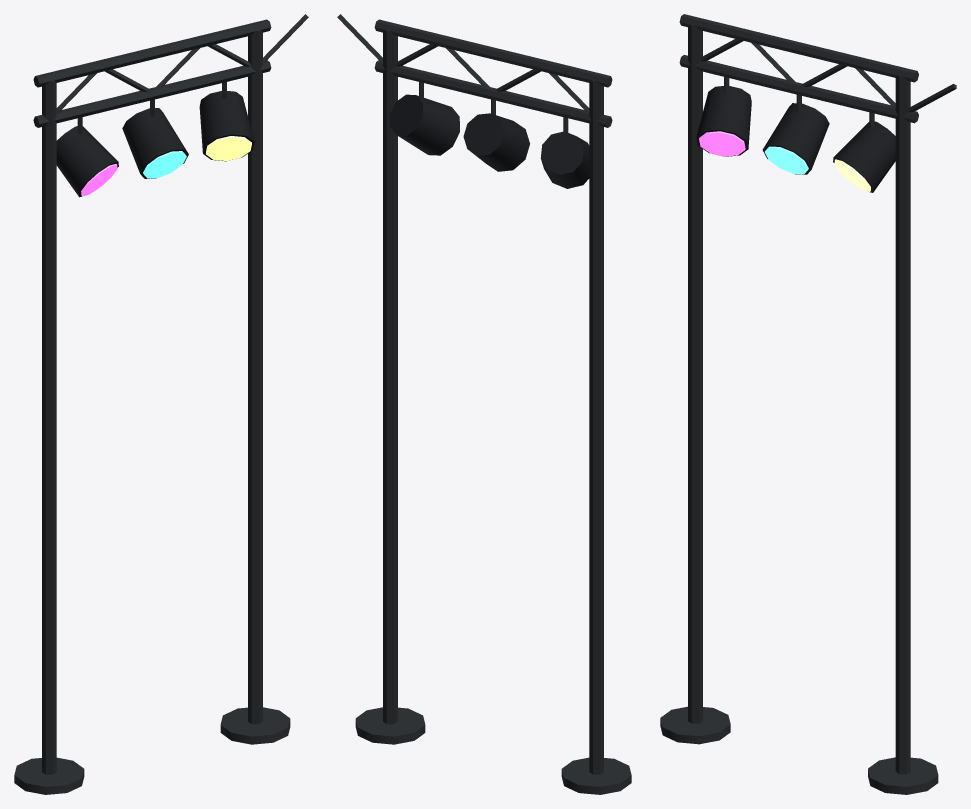
The model's file is stage_lights.glb.
3 renders of one model, left to right at view 1: azimuth 30°, elevation 25°; view 2: azimuth 150°, elevation 25°; view 3: azimuth 330°, elevation 25°, orthographic.
Parts seen in each view (by area): view 1: stage_lights; view 2: stage_lights; view 3: stage_lights.
Boxes of the visible parts, <box> form: stage_lights: <box>14,14,308,794</box>; stage_lights: <box>337,14,631,794</box>; stage_lights: <box>660,14,956,794</box>.
Size of the model in its own units: 1.12 by 2.62 by 0.2543.
